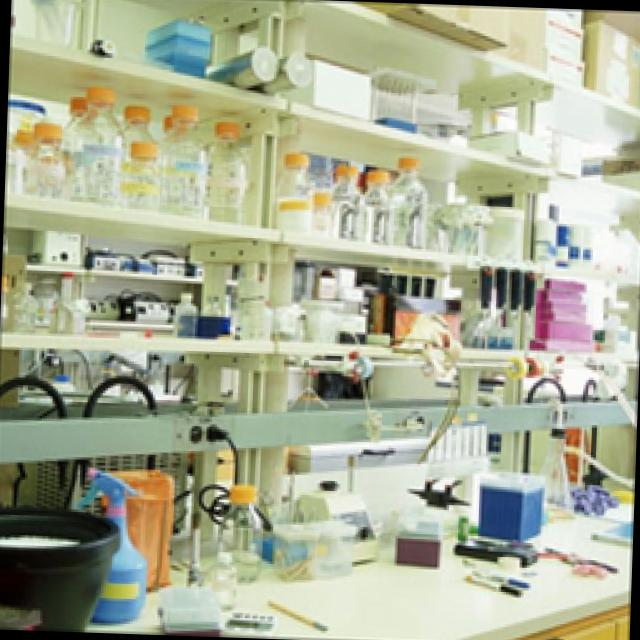bottle crop: (67, 82, 124, 200), (159, 102, 204, 213), (204, 116, 243, 220), (383, 153, 425, 246), (275, 149, 307, 229)
countertop: (0, 486, 629, 640)
cupboard crop: (506, 598, 626, 640)
flask crop: (119, 138, 158, 207)
